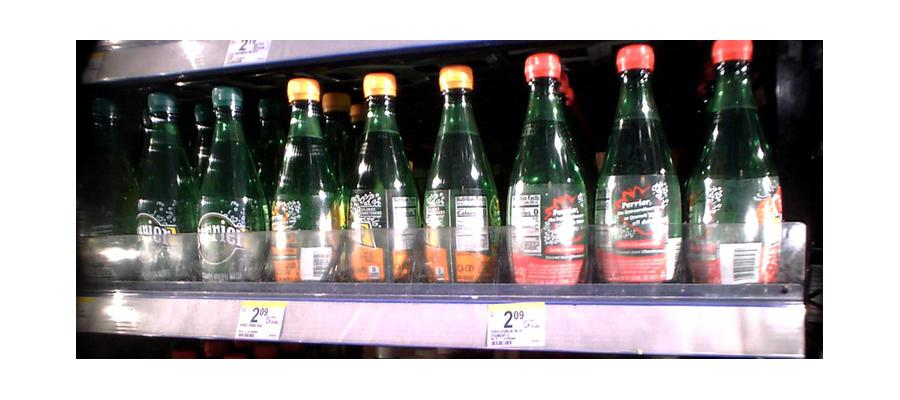bottle: (692, 35, 781, 291), (599, 42, 684, 297), (508, 59, 593, 294), (422, 67, 501, 296), (266, 80, 339, 296), (346, 75, 417, 289), (192, 86, 263, 290), (134, 91, 192, 282)
